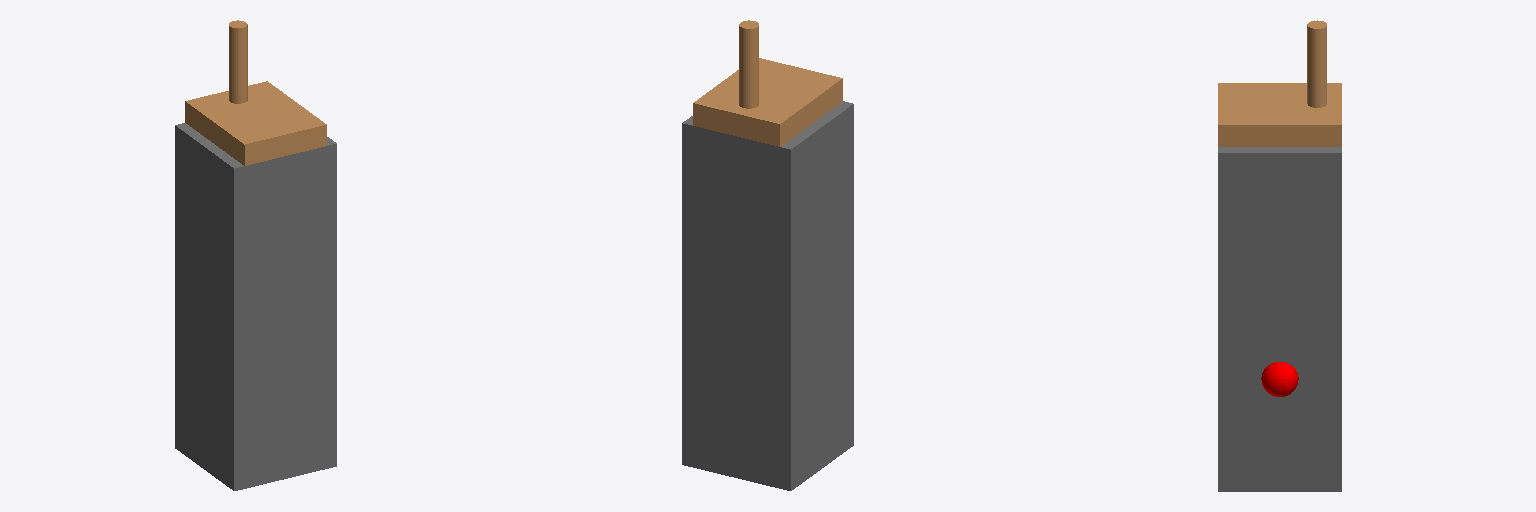
The robot description file, URDF, robot "wearable_hand":
<?xml version="1.0"?>
<robot name="wearable_hand">

  <link name="world"/>

  <link name="elbow_roll_link">
    <inertial>
      <mass value="0.01"/>
      <inertia ixx="0.001" ixy="0" ixz="0" iyy="0.001" iyz="0" izz="0.001"/>
    </inertial>
  </link>

  <joint name="elbow_roll_joint" type="revolute">
    <parent link="world"/>
    <child link="elbow_roll_link"/>
    <origin xyz="0 0 1.0" rpy="0 0 0"/> 
    <axis xyz="1 0 0"/>
    <limit lower="-1.57" upper="1.57" effort="10" velocity="1.0"/>
  </joint>

  <link name="elbow_pitch_link">
    <inertial>
      <mass value="0.01"/>
      <inertia ixx="0.001" ixy="0" ixz="0" iyy="0.001" iyz="0" izz="0.001"/>
    </inertial>
  </link>

  <joint name="elbow_pitch_joint" type="revolute">
    <parent link="elbow_roll_link"/>
    <child link="elbow_pitch_link"/>
    <origin xyz="0 0 0" rpy="0 0 0"/>
    <axis xyz="0 1 0"/>
    <limit lower="-1.57" upper="1.57" effort="10" velocity="1.0"/>
  </joint>

  <joint name="elbow_yaw_joint" type="revolute">
    <parent link="elbow_pitch_link"/>
    <child link="forearm_link"/> 
    <origin xyz="0 0 0" rpy="0 0 0"/>
    <axis xyz="0 0 1"/>
    <limit lower="-1.57" upper="1.57" effort="10" velocity="1.0"/>
  </joint>

  <link name="forearm_link">
    <visual>
      <geometry>
        <box size="0.1 0.1 0.3"/> 
      </geometry>
      <origin xyz="0 0 0.15" rpy="0 0 0"/> 
      <material name="gray">
        <color rgba="0.5 0.5 0.5 1"/>
      </material>
    </visual>
    <inertial>
      <mass value="1.0"/>
      <inertia ixx="0.01" ixy="0" ixz="0" iyy="0.01" iyz="0" izz="0.01"/>
    </inertial>
  </link>

  <link name="imu_brachioradialis">
    <visual>
      <geometry>
        <sphere radius="0.015"/> 
      </geometry>
      <material name="red">
        <color rgba="1 0 0 1"/> </material>
    </visual>
  </link>

  <joint name="fixed_brachio" type="fixed">
    <parent link="forearm_link"/>
    <child link="imu_brachioradialis"/>
    <origin xyz="0.05 0 0.1" rpy="0 0 0"/> 
  </joint>

  <link name="imu_wrist_sensor">
    <visual>
      <geometry>
        <sphere radius="0.015"/>
      </geometry>
      <material name="blue">
        <color rgba="0 0 1 1"/> </material>
    </visual>
  </link>

  <joint name="fixed_wrist" type="fixed">
    <parent link="forearm_link"/>
    <child link="imu_wrist_sensor"/>
    <origin xyz="0 0 0.28" rpy="0 0 0"/> 
  </joint>

  <link name="hand_link">
    <visual>
      <geometry>
        <box size="0.08 0.1 0.02"/> 
      </geometry>
      <material name="skin">
        <color rgba="0.8 0.6 0.4 1"/> </material>
    </visual>
    <inertial>
      <mass value="0.1"/>
      <inertia ixx="0.001" ixy="0" ixz="0" iyy="0.001" iyz="0" izz="0.001"/>
    </inertial>
  </link>

  <joint name="wrist_fixed" type="fixed"> 
    <parent link="forearm_link"/>
    <child link="hand_link"/>
    <origin xyz="0 0 0.31" rpy="0 0 0"/>
  </joint>

  <link name="index_finger_link">
    <visual>
      <geometry>
        <cylinder length="0.08" radius="0.008"/> </geometry>
      <material name="skin"/>
    </visual>
    <inertial>
      <mass value="0.05"/>
      <inertia ixx="0.0001" ixy="0" ixz="0" iyy="0.0001" iyz="0" izz="0.0001"/>
    </inertial>
  </link>

  <joint name="index_finger_joint" type="revolute">
    <parent link="hand_link"/>
    <child link="index_finger_link"/>
    <origin xyz="0 0.03 0.04" rpy="0 0 0"/>
    <axis xyz="1 0 0"/> <limit lower="0.0" upper="1.57" effort="1.0" velocity="1.0"/>
  </joint>

  <gazebo>
    <plugin filename="gz-sim-joint-state-publisher-system"
            name="gz::sim::systems::JointStatePublisher">
      <topic>joint_states</topic> <joint_name>elbow_roll_joint</joint_name>
      <joint_name>elbow_pitch_joint</joint_name>
      <joint_name>elbow_yaw_joint</joint_name>
      <joint_name>index_finger_joint</joint_name>
    </plugin>

    <plugin filename="gz-sim-apply-joint-force-system"
            name="gz::sim::systems::ApplyJointForce">
      <joint_name>elbow_roll_joint</joint_name>
    </plugin>
    <plugin filename="gz-sim-apply-joint-force-system"
            name="gz::sim::systems::ApplyJointForce">
      <joint_name>elbow_pitch_joint</joint_name>
    </plugin>
    <plugin filename="gz-sim-apply-joint-force-system"
            name="gz::sim::systems::ApplyJointForce">
      <joint_name>elbow_yaw_joint</joint_name>
    </plugin>
    <plugin filename="gz-sim-apply-joint-force-system"
            name="gz::sim::systems::ApplyJointForce">
      <joint_name>index_finger_joint</joint_name>
    </plugin>
  </gazebo>

</robot>

--- Render facts (derived) ---
The picture shows the robot from 3 angles, left to right: view 1: azimuth 30°, elevation 25°; view 2: azimuth 150°, elevation 25°; view 3: azimuth 270°, elevation 25°; orthographic projection.
Model wearable_hand with 8 links and 7 joints (4 revolute, 3 fixed), rooted at world, posed every joint at zero.
Visible links, largest first — view 1: forearm_link, hand_link, index_finger_link; view 2: forearm_link, hand_link, index_finger_link; view 3: forearm_link, hand_link, index_finger_link, imu_brachioradialis.
Link boxes in pixels (x1=…): forearm_link: x1=175, y1=123, x2=336, y2=490; hand_link: x1=185, y1=81, x2=326, y2=165; index_finger_link: x1=229, y1=20, x2=247, y2=103; forearm_link: x1=682, y1=101, x2=853, y2=490; hand_link: x1=693, y1=58, x2=842, y2=146; index_finger_link: x1=739, y1=20, x2=758, y2=108; forearm_link: x1=1218, y1=147, x2=1341, y2=491; hand_link: x1=1218, y1=83, x2=1341, y2=146; index_finger_link: x1=1307, y1=20, x2=1326, y2=107; imu_brachioradialis: x1=1261, y1=362, x2=1298, y2=396.
Size in the robot's own frame: 0.115 by 0.1 by 0.39 metres.
Geometry: primitives only (box / cylinder / sphere), no mesh files.